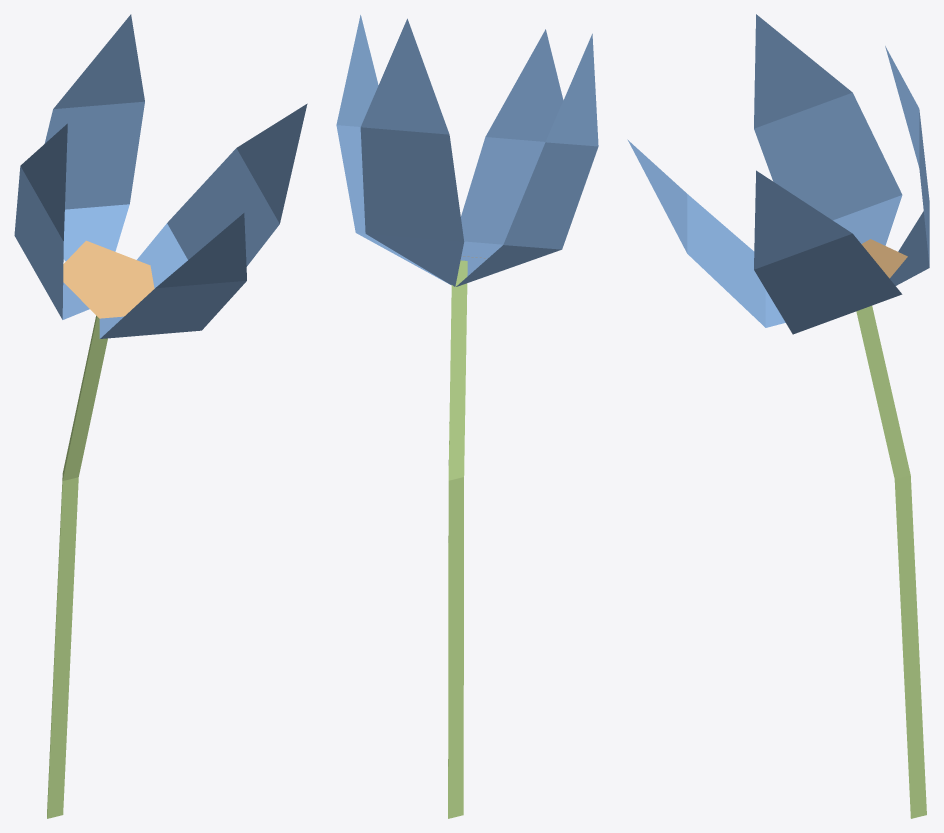
The model's file is Flower_a_OneS_01.fbx.
3 views of the same model, side by side, from view 1: azimuth 30°, elevation 25°; view 2: azimuth 150°, elevation 25°; view 3: azimuth 270°, elevation 25° (orthographic). The views are drawn at different scales.
Visible parts, largest first — view 1: Flower_a_OneS_01; view 2: Flower_a_OneS_01; view 3: Flower_a_OneS_01.
Boxes of the visible parts, x1=… form: Flower_a_OneS_01: x1=14, y1=14, x2=307, y2=818; Flower_a_OneS_01: x1=336, y1=15, x2=598, y2=818; Flower_a_OneS_01: x1=627, y1=14, x2=929, y2=818.
Bounding box in the file's own units: 0.2638 × 0.8207 × 0.2806.
